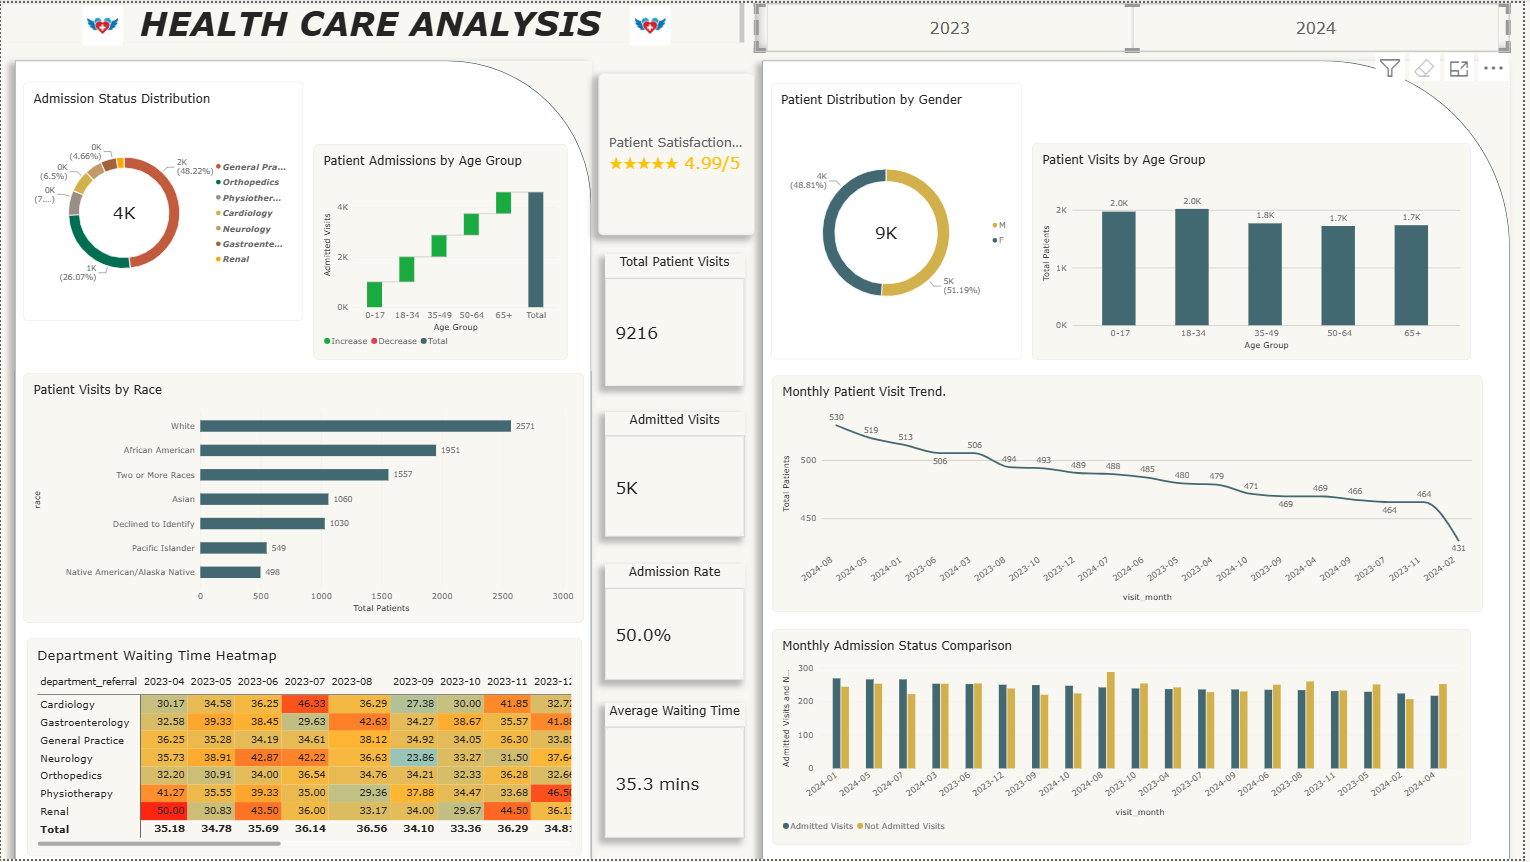

The dashboard page shown, as its layout file describes it:
{"tool":"powerbi","page":{"name":"Hospital Admission Analysis.","canvas":[2560,1440],"ordinal":1},"visuals":[{"type":"shape","box":[1280,97.5,1257.5,1497.5],"z":0},{"type":"shape","box":[22.5,97.5,970,1527.5],"z":1000},{"type":"textbox","box":[0,0,1250,67.5],"z":2000},{"type":"slicer","fields":{"Values":["hospital_er_clean.admission_date.Variation.Date Hierarchy.Year"]},"box":[1267.5,0,1270,82.5],"z":3000},{"type":"donutChart","title":"Admission Status Distribution","fields":{"Category":["hospital_er_clean.department_referral"],"Y":["hospital_er_clean.Total Patients"]},"box":[37.5,132.5,470,402.5],"z":4000},{"type":"donutChart","title":"Patient Distribution by Gender","fields":{"Category":["hospital_er_clean.gender"],"Y":["hospital_er_clean.Total Patients"]},"box":[1295,135,422.5,465],"z":5000},{"type":"clusteredColumnChart","title":"Patient Visits by Age Group","fields":{"Category":["hospital_er_clean.Age Group"],"Y":["hospital_er_clean.Total Patients"]},"box":[1735,235,737.5,365],"z":6000},{"type":"clusteredBarChart","title":"Patient Visits by Race","fields":{"Category":["hospital_er_clean.race"],"Y":["hospital_er_clean.Total Patients"]},"box":[37.5,622.5,942.5,420],"z":7000},{"type":"clusteredColumnChart","title":"Monthly Admission Status Comparison","fields":{"Category":["hospital_er_clean.visit_month"],"Y":["hospital_er_clean.Admitted Visits","hospital_er_clean.Not Admitted Visits"]},"box":[1297.5,1052.5,1175,362.5],"z":8000},{"type":"pivotTable","title":"Department Waiting Time Heatmap","fields":{"Columns":["hospital_er_clean.visit_month"],"Rows":["hospital_er_clean.department_referral"],"Values":["hospital_er_clean.Average Waiting Time"]},"box":[45,1067.5,932.5,367.5],"z":9000},{"type":"lineChart","title":"Monthly Patient Visit Trend.","fields":{"Category":["hospital_er_clean.visit_month"],"Y":["hospital_er_clean.Total Patients"]},"box":[1297.5,627.5,1195,397.5],"z":10000},{"type":"cardVisual","title":"Total Patient Visits","fields":{"Data":["hospital_er_clean.Total Patients"]},"box":[1015,422.5,235,222.5],"z":11000},{"type":"cardVisual","title":"Admission Rate","fields":{"Data":["hospital_er_clean.Admission Rate"]},"box":[1015,945,235,195],"z":12000},{"type":"cardVisual","title":"Admitted Visits","fields":{"Data":["hospital_er_clean.Admitted Visits"]},"box":[1015,687.5,235,210],"z":13000},{"type":"cardVisual","title":"Average Waiting Time","fields":{"Data":["hospital_er_clean.Average Waiting Time Display"]},"box":[1015,1177.5,235,227.5],"z":14000},{"type":"cardVisual","title":"Patient Satisfaction","fields":{"Data":["hospital_er_clean.Patient Satisfaction Rating"]},"box":[1005,117.5,262.5,272.5],"z":15000},{"type":"waterfallChart","title":"Patient Admissions by Age Group","fields":{"Category":["hospital_er_clean.Age Group"],"Y":["hospital_er_clean.Admitted Visits"]},"box":[525,237.5,427.5,362.5],"z":16000},{"type":"image","box":[1015,5,152.5,67.5],"z":17000},{"type":"image","box":[95,5,152.5,67.5],"z":18000}]}

Visuals, with their boxes on the page's 2560x1440 design canvas (x1, y1, x2, y2). These are canvas units, not pixel positions in the 1530x862 screenshot, which may show the page scaled, cropped or inside an application window:
shape: (1280, 98, 2538, 1595)
shape: (22, 98, 992, 1625)
textbox: (0, 0, 1250, 68)
slicer - hospital_er_clean.admission_date.Variation.Date Hierarchy.Year: (1268, 0, 2538, 82)
"Admission Status Distribution" donutChart: (38, 132, 508, 535)
"Patient Distribution by Gender" donutChart: (1295, 135, 1718, 600)
"Patient Visits by Age Group" clusteredColumnChart: (1735, 235, 2472, 600)
"Patient Visits by Race" clusteredBarChart: (38, 622, 980, 1042)
"Monthly Admission Status Comparison" clusteredColumnChart: (1298, 1052, 2472, 1415)
"Department Waiting Time Heatmap" pivotTable: (45, 1068, 978, 1435)
"Monthly Patient Visit Trend." lineChart: (1298, 628, 2492, 1025)
"Total Patient Visits" cardVisual: (1015, 422, 1250, 645)
"Admission Rate" cardVisual: (1015, 945, 1250, 1140)
"Admitted Visits" cardVisual: (1015, 688, 1250, 898)
"Average Waiting Time" cardVisual: (1015, 1178, 1250, 1405)
"Patient Satisfaction" cardVisual: (1005, 118, 1268, 390)
"Patient Admissions by Age Group" waterfallChart: (525, 238, 952, 600)
image: (1015, 5, 1168, 72)
image: (95, 5, 248, 72)
